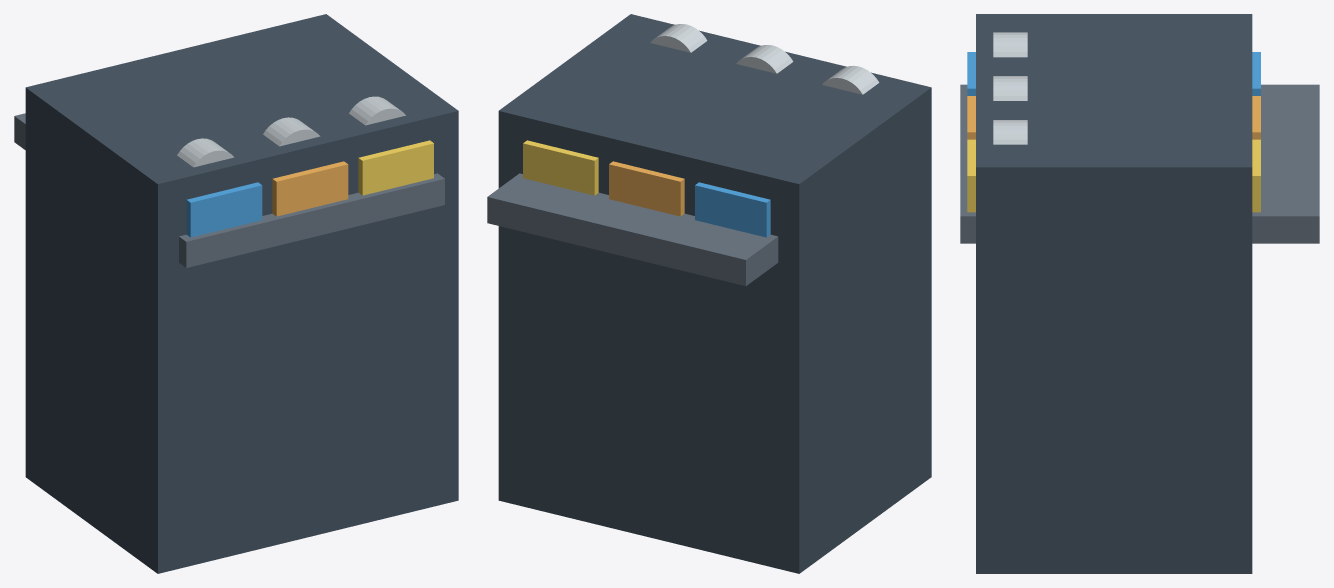
File: terminal_block.glb
3 views of the same model, side by side, from view 1: azimuth 30°, elevation 25°; view 2: azimuth 150°, elevation 25°; view 3: azimuth 270°, elevation 25° (orthographic). The views are drawn at different scales.
Parts seen in each view (by area): view 1: terminal_block_0, terminal_block_1, terminal_block_3, terminal_block_5, terminal_block_7, terminal_block_4, terminal_block_6, terminal_block_8; view 2: terminal_block_0, terminal_block_1, terminal_block_3, terminal_block_7, terminal_block_5, terminal_block_4, terminal_block_8, terminal_block_6; view 3: terminal_block_0, terminal_block_1, terminal_block_7, terminal_block_4, terminal_block_6, terminal_block_8, terminal_block_3, terminal_block_5.
Boxes of the visible parts, left/top/right/bottom form: terminal_block_0: left=25, top=14, right=458, bottom=573; terminal_block_1: left=14, top=113, right=444, bottom=267; terminal_block_3: left=186, top=182, right=262, bottom=237; terminal_block_5: left=272, top=161, right=348, bottom=216; terminal_block_7: left=358, top=140, right=433, bottom=195; terminal_block_4: left=177, top=138, right=234, bottom=167; terminal_block_6: left=263, top=117, right=320, bottom=146; terminal_block_8: left=349, top=96, right=405, bottom=125; terminal_block_0: left=498, top=14, right=931, bottom=573; terminal_block_1: left=487, top=173, right=778, bottom=285; terminal_block_3: left=695, top=182, right=770, bottom=237; terminal_block_7: left=523, top=140, right=598, bottom=195; terminal_block_5: left=609, top=161, right=684, bottom=216; terminal_block_4: left=822, top=65, right=879, bottom=94; terminal_block_8: left=650, top=24, right=707, bottom=52; terminal_block_6: left=736, top=45, right=793, bottom=73; terminal_block_0: left=976, top=14, right=1252, bottom=573; terminal_block_1: left=960, top=84, right=1319, bottom=243; terminal_block_7: left=967, top=139, right=1260, bottom=212; terminal_block_4: left=993, top=32, right=1027, bottom=57; terminal_block_6: left=993, top=76, right=1027, bottom=100; terminal_block_8: left=993, top=120, right=1027, bottom=144; terminal_block_3: left=967, top=52, right=1260, bottom=95; terminal_block_5: left=967, top=96, right=1260, bottom=139.
Size of the model in its own units: 0.42 by 0.535 by 0.416.
